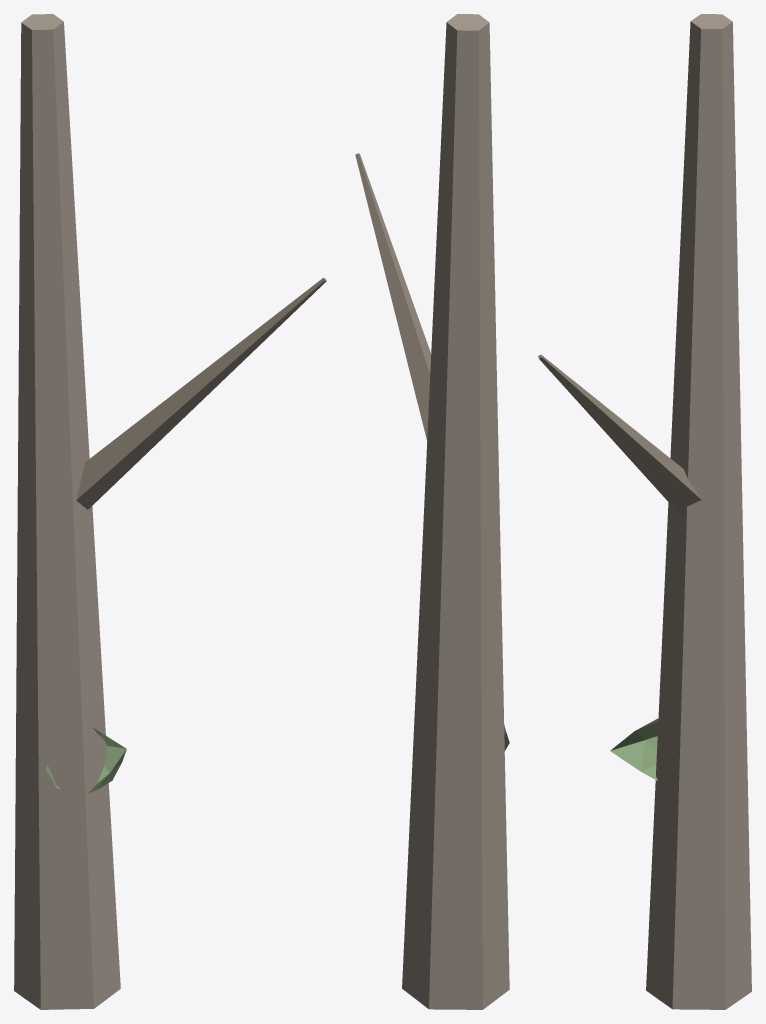
File: snag_v37.glb
The picture shows the model from 3 angles, left to right: view 1: azimuth 30°, elevation 25°; view 2: azimuth 150°, elevation 25°; view 3: azimuth 270°, elevation 25°; orthographic projection.
Parts seen in each view (by area): view 1: lod0; view 2: lod0; view 3: lod0.
Boxes of the visible parts, x1,y1,x2,y2 form: lod0: (14, 14, 326, 1009); lod0: (355, 14, 509, 1009); lod0: (538, 14, 751, 1009).
Size of what is drawn, in the model's own units: 0.8048 by 3.41 by 0.6864.
